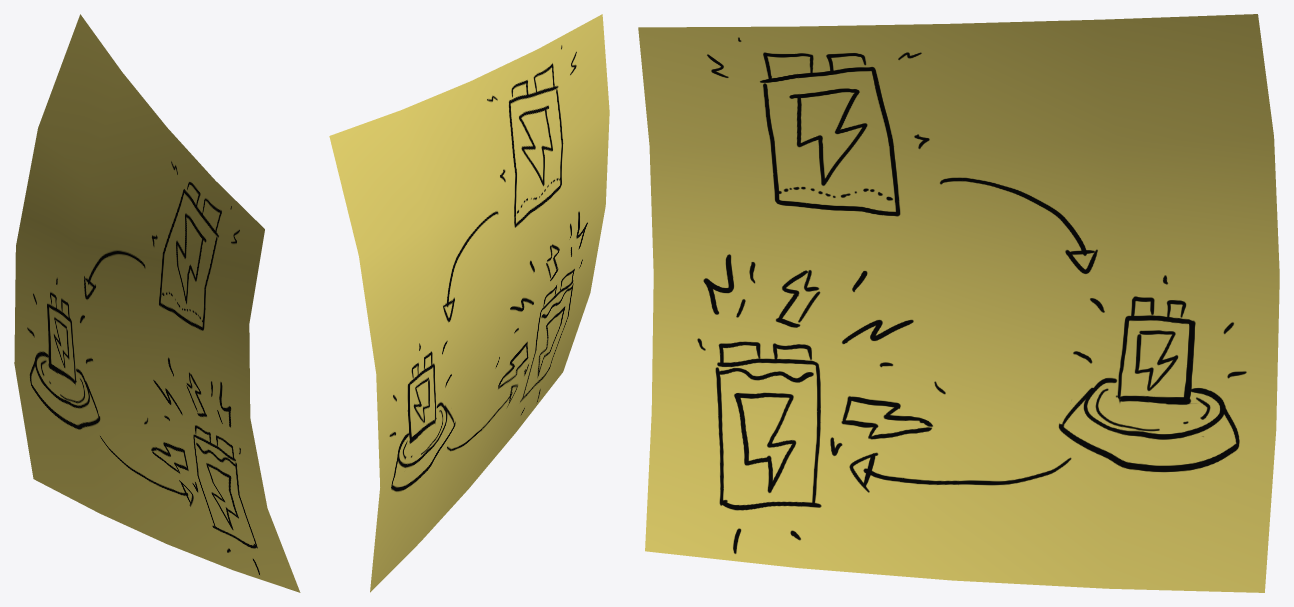
Rendered from PostItColourCharging.fbx.
3 renders of one model, left to right at view 1: azimuth 30°, elevation 25°; view 2: azimuth 150°, elevation 25°; view 3: azimuth 270°, elevation 25°, orthographic. The views are drawn at different scales.
Parts seen in each view (by area): view 1: Cube; view 2: Cube; view 3: Cube.
Boxes of the visible parts, x1=… form: Cube: x1=14, y1=14, x2=300, y2=592; Cube: x1=329, y1=14, x2=609, y2=592; Cube: x1=638, y1=14, x2=1279, y2=592.
Size of the model in its own units: 147 by 1070 by 1024.
